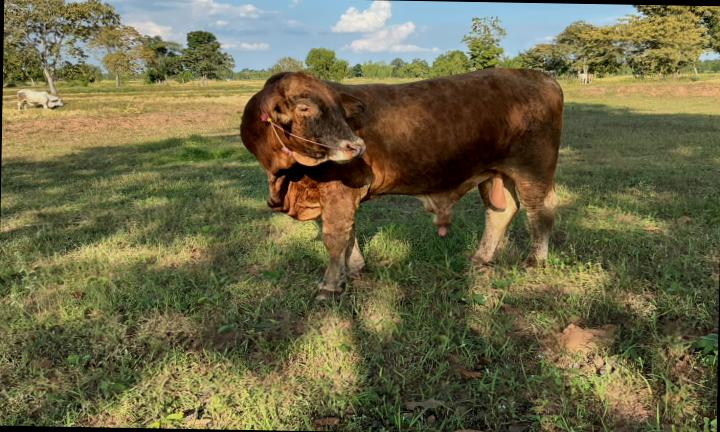Charolais: (240, 68, 562, 298)
